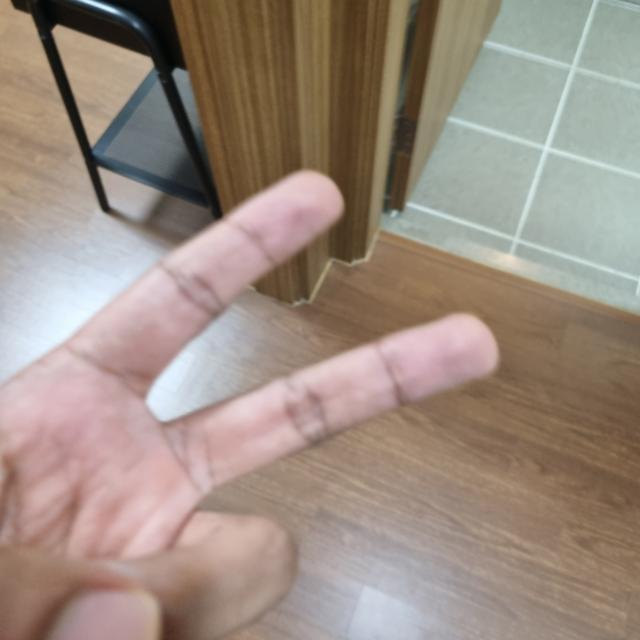Scissors: (0, 172, 493, 640)
